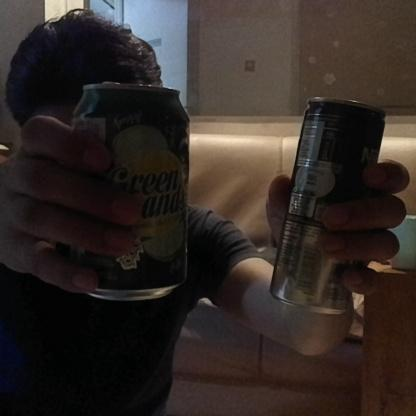alumunium_can: (74, 81, 192, 302), (271, 98, 388, 311)
